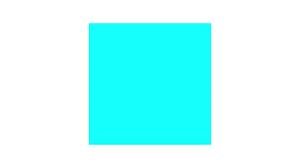cyan_zone: (86, 20, 213, 151)
